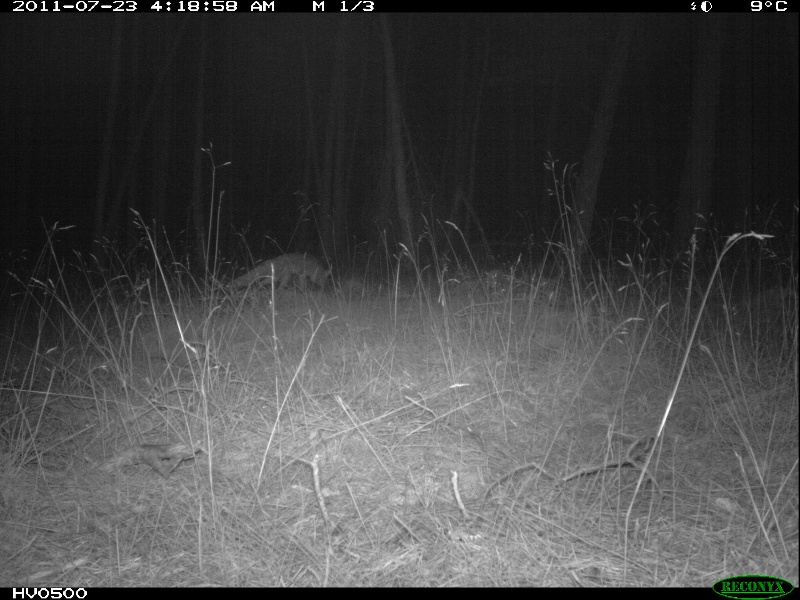fox: (226, 246, 337, 306)
